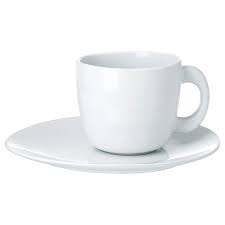cup: (3, 44, 223, 179)
